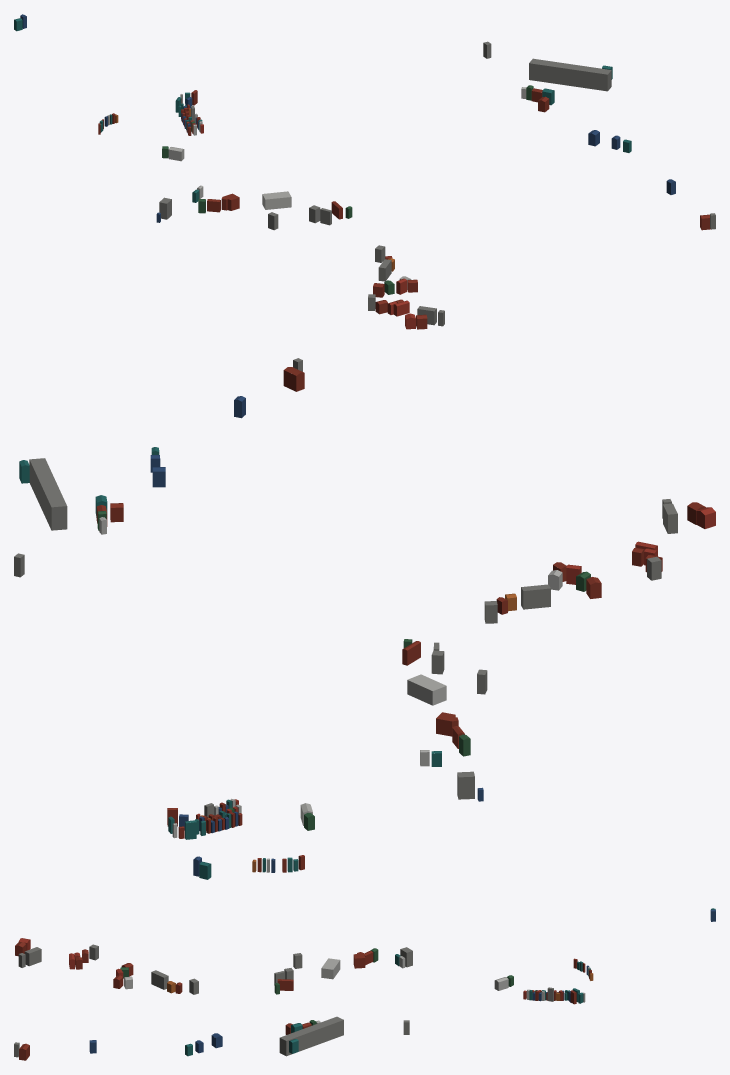
The model's file is near-15-27350-14876.cd359eb7.glb.
3 views of the same model, one above another, from view 1: azimuth 30°, elevation 25°; view 2: azimuth 150°, elevation 25°; view 3: azimuth 270°, elevation 25° (orthographic). The views are drawn at different scales.
Bounding box in the file's own units: 699 × 177 × 1175.
